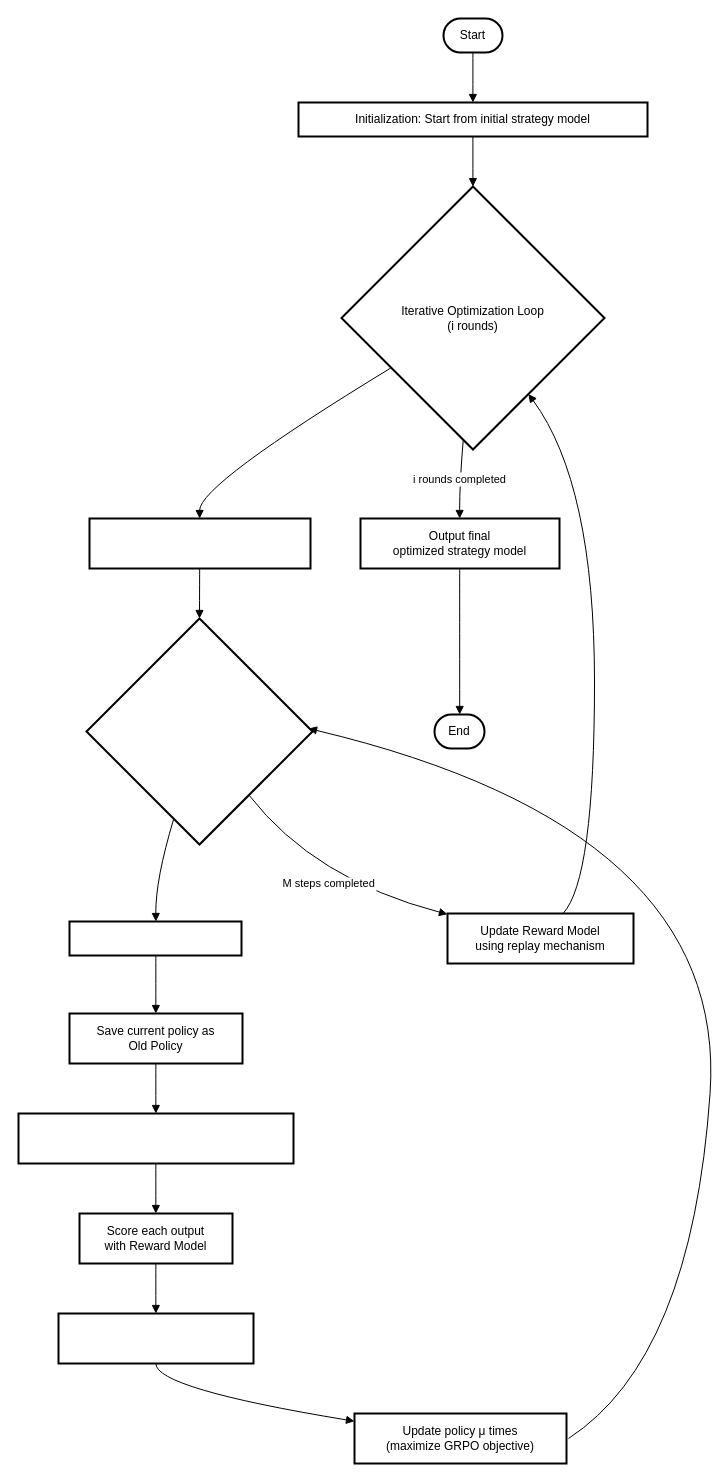
Image size: 728x1481. Some labels were removed from this diagram. Each missing label, with the centre of its shape:
"Calculate Group Relative Advantage per token" belongs at (155,1338).
"For each task: Generate G outputs using Old Policy" belongs at (155,1138).
"Multi-step Refinement (M steps)" belongs at (199,731).
"Sample batch of tasks" belongs at (155,938).
"Set Reference Model: Current strategy = reference" belongs at (199,543).
